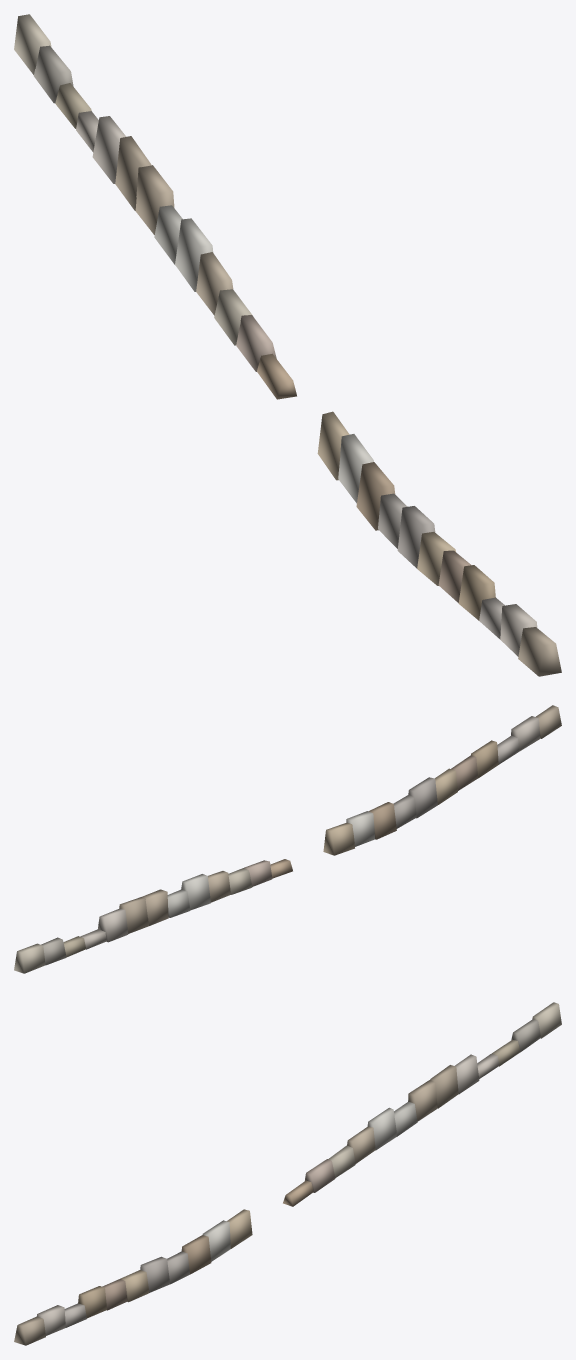
File: farm_8_13_far.glb
3 views of the same model, one above another, from view 1: azimuth 30°, elevation 25°; view 2: azimuth 150°, elevation 25°; view 3: azimuth 330°, elevation 25° (orthographic). The views are drawn at different scales.
Visible parts, largest first — view 1: geometry_0; view 2: geometry_0; view 3: geometry_0.
Part boxes in pixels (<box>): geometry_0: <box>14,14,561,676</box>; geometry_0: <box>14,705,561,973</box>; geometry_0: <box>14,1002,561,1345</box>.
Size of the model in its own units: 6.85 by 3.9 by 41.14.
